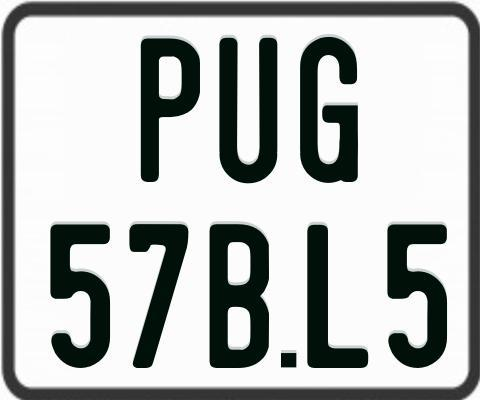5: (386, 222, 451, 368), (49, 221, 111, 370)
7: (128, 224, 193, 374)
B: (210, 223, 271, 373)
G: (298, 34, 357, 185)
L: (306, 222, 368, 366)
P: (140, 35, 199, 182)
U: (218, 38, 281, 189)
